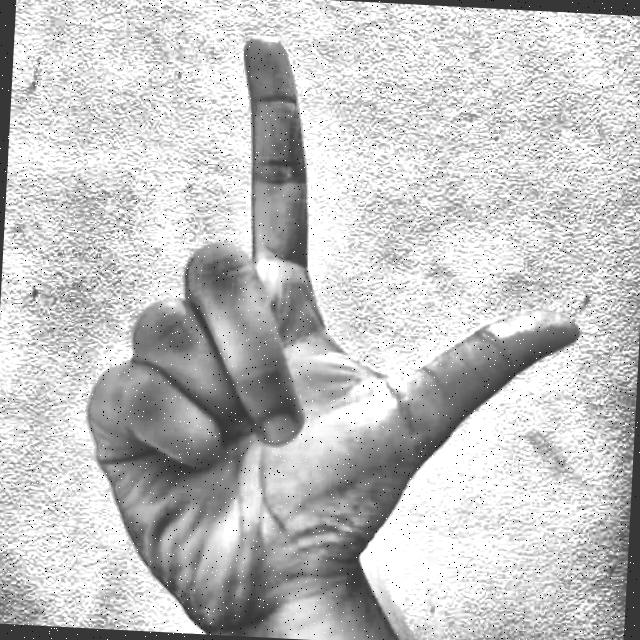La: (12, 4, 600, 640)
